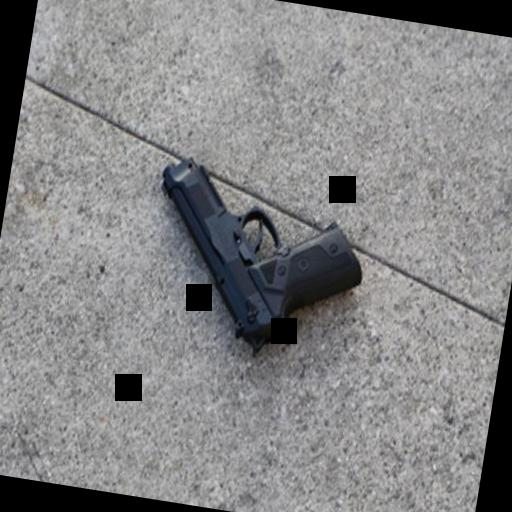Handgun: (134, 148, 378, 367)
